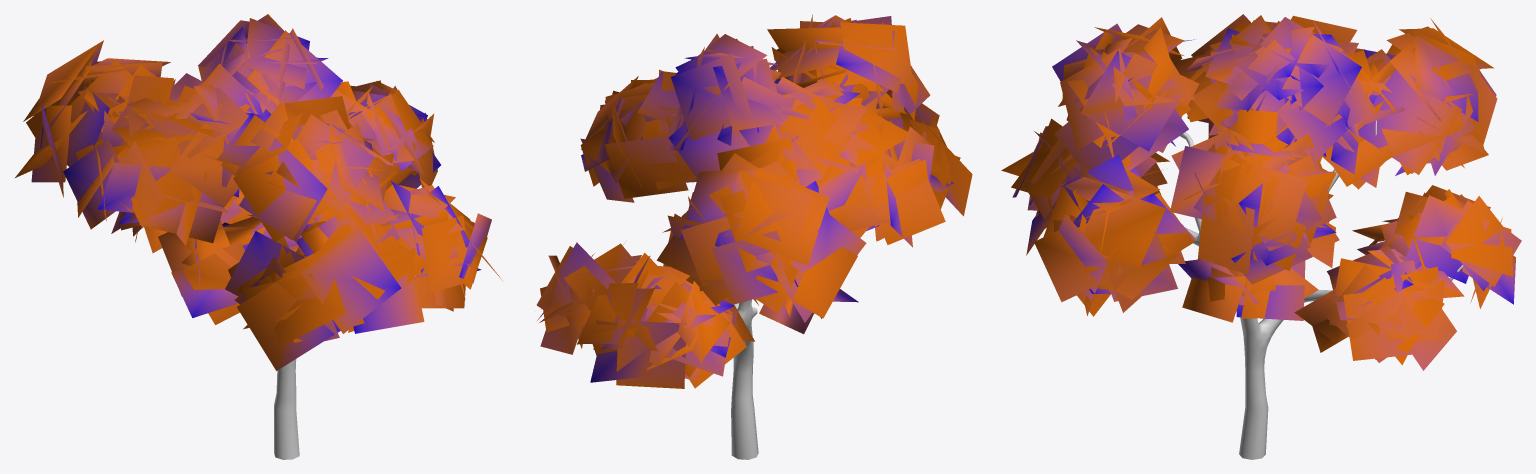
Rendered from SM_Tree1.fbx.
3 renders of one model, left to right at view 1: azimuth 30°, elevation 25°; view 2: azimuth 150°, elevation 25°; view 3: azimuth 270°, elevation 25°, orthographic. The views are drawn at different scales.
Visible parts, largest first — view 1: Leaves, Tree Trunk; view 2: Leaves, Tree Trunk; view 3: Leaves, Tree Trunk.
Part boxes in pixels (x1,y1,x2,y2): Leaves: (15,14,502,370); Tree Trunk: (274,359,299,459); Leaves: (536,14,972,388); Tree Trunk: (731,299,758,459); Leaves: (1001,14,1521,370); Tree Trunk: (1179,120,1463,459).
Size of the model in its own units: 5.99 by 6.71 by 7.44.
